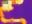Hotspot: (2, 0, 12, 12), (5, 18, 26, 23), (15, 0, 23, 4)
